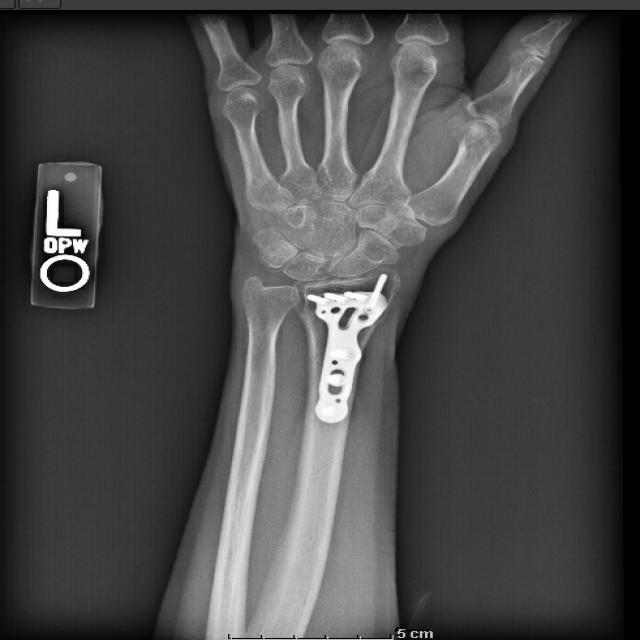x-ray: (294, 266, 418, 432)
